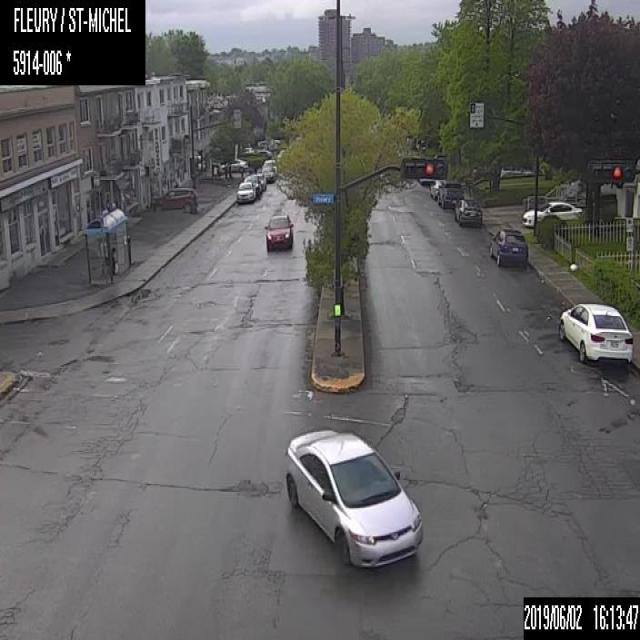pedestrian: (107, 240, 117, 284)
vehicle: (281, 427, 422, 568), (556, 300, 633, 363), (522, 198, 580, 225), (488, 227, 528, 265), (264, 210, 292, 250), (150, 185, 195, 206), (454, 198, 482, 224), (437, 180, 462, 207), (220, 157, 246, 174), (236, 179, 255, 201), (261, 162, 277, 184)
